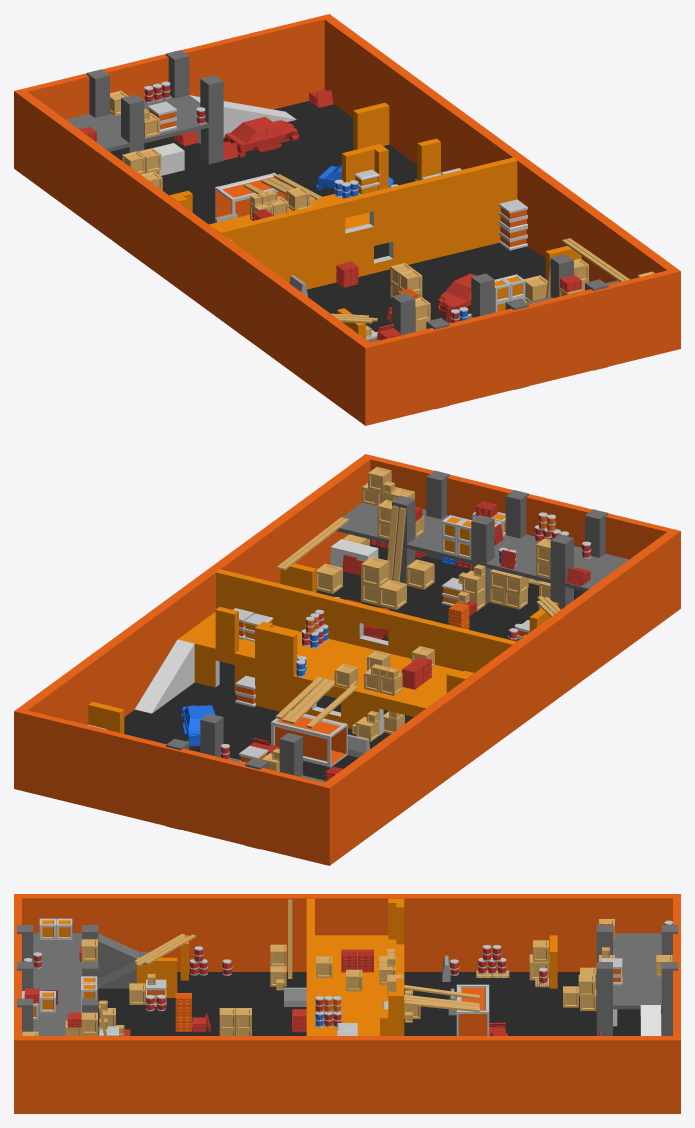
Rendered from constructionMap.glb.
The picture shows the model from 3 angles, top to bottom: view 1: azimuth 30°, elevation 25°; view 2: azimuth 150°, elevation 25°; view 3: azimuth 270°, elevation 25°; orthographic projection. The views are drawn at different scales.
Visible parts, largest first — view 1: floors, room.001, Plane, Cube.016, Cube.004, Cube.007, Cube.005, obj.004, Cube.012, Cube.006, BigBox.001, Cube.011; view 2: floors, room.001, Cube.004, Plane, Cube.005, Cube.016, Cube.002, obj.004, Cube.017, Cube.035, obj.002, Box.056 (+3 smaller); view 3: floors, Plane, room.001, Cube.016, Cube.004, up2, obj.024, Cube.005, Cube.012, obj.008, obj.028, Cube.036 (+20 smaller).
Boxes of the visible parts, x1,y1,x2,y2 form: floors: (14, 14, 680, 425); room.001: (169, 138, 517, 289); Plane: (110, 101, 545, 331); Cube.016: (65, 50, 223, 164); Cube.004: (368, 254, 619, 409); Cube.007: (224, 116, 299, 157); Cube.005: (215, 172, 289, 218); obj.004: (353, 103, 389, 149); Cube.012: (189, 95, 296, 143); Cube.006: (438, 273, 476, 314); BigBox.001: (499, 199, 527, 230); Cube.011: (153, 143, 184, 175); floors: (14, 454, 680, 865); room.001: (178, 569, 516, 735); Cube.004: (336, 470, 629, 609); Plane: (124, 544, 584, 780); Cube.005: (271, 710, 347, 767); Cube.016: (166, 713, 325, 849); Cube.002: (134, 639, 194, 713); obj.004: (88, 701, 124, 733); Cube.017: (330, 539, 378, 567); Cube.035: (181, 705, 215, 746); obj.002: (280, 563, 316, 592); Box.056: (361, 556, 389, 586); floors: (14, 894, 680, 1113); Plane: (98, 972, 661, 1035); room.001: (306, 898, 404, 1035); Cube.016: (596, 925, 677, 1035); Cube.004: (17, 925, 98, 1035); up2: (98, 933, 149, 988); obj.024: (136, 957, 177, 997); Cube.005: (456, 984, 489, 1035); Cube.012: (640, 1005, 661, 1035); obj.008: (458, 1014, 487, 1035); obj.028: (549, 935, 557, 988); Cube.036: (284, 987, 306, 1006).
Bounding box in the file's own units: 34 × 8.4 × 65.6.
